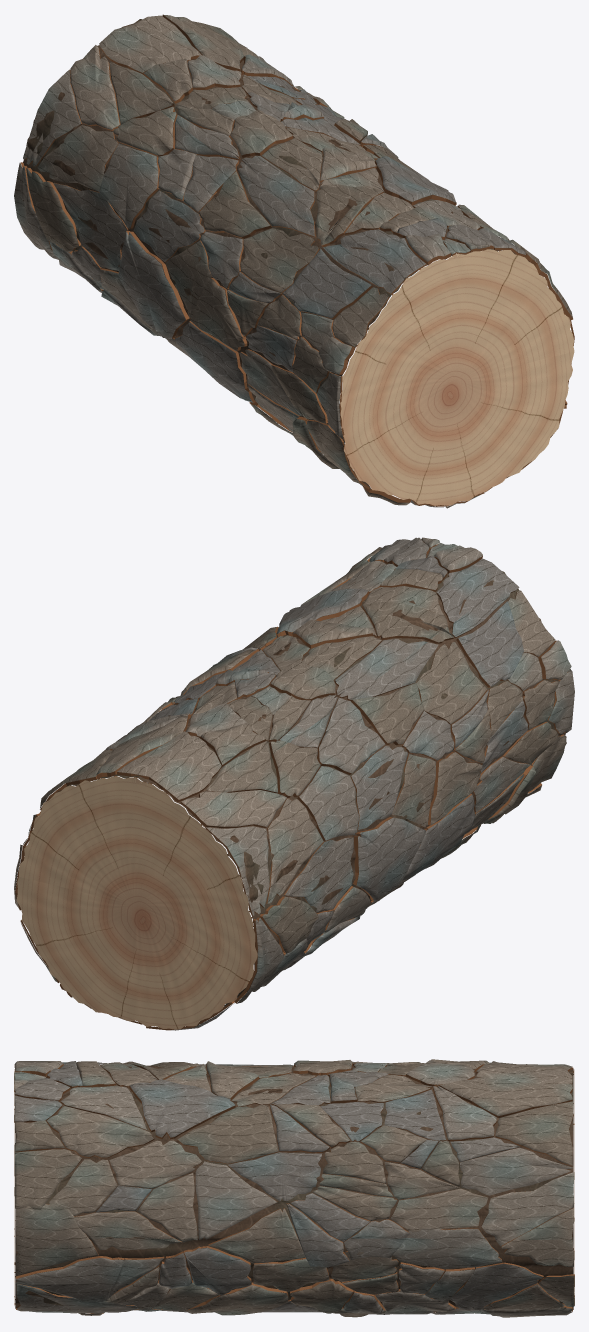
Rendered from maple_log.glb.
3 renders of one model, top to bottom at view 1: azimuth 30°, elevation 25°; view 2: azimuth 150°, elevation 25°; view 3: azimuth 270°, elevation 25°, orthographic. The views are drawn at different scales.
Visible parts, largest first — view 1: maple_log irregular weathered bark, maple_log species growth rings, maple_log broken cambium and bark edges, maple_log continuous fibrous fissure bed; view 2: maple_log irregular weathered bark, maple_log species growth rings, maple_log broken cambium and bark edges, maple_log continuous fibrous fissure bed; view 3: maple_log irregular weathered bark, maple_log continuous fibrous fissure bed, maple_log broken cambium and bark edges, maple_log species growth rings.
Boxes of the visible parts, bbox=[...] form: maple_log irregular weathered bark: bbox=[14, 14, 572, 508]; maple_log species growth rings: bbox=[339, 249, 574, 505]; maple_log broken cambium and bark edges: bbox=[20, 15, 574, 506]; maple_log continuous fibrous fissure bed: bbox=[21, 19, 529, 502]; maple_log irregular weathered bark: bbox=[14, 537, 574, 1030]; maple_log species growth rings: bbox=[16, 776, 257, 1029]; maple_log broken cambium and bark edges: bbox=[15, 541, 567, 1030]; maple_log continuous fibrous fissure bed: bbox=[45, 544, 566, 1024]; maple_log irregular weathered bark: bbox=[14, 1059, 574, 1317]; maple_log continuous fibrous fissure bed: bbox=[15, 1065, 573, 1309]; maple_log broken cambium and bark edges: bbox=[14, 1063, 574, 1313]; maple_log species growth rings: bbox=[14, 1069, 574, 1305].
Bounding box in the file's own units: 0.2483 × 0.2483 × 0.5404.
Materials: 4 (3 with a texture image).
